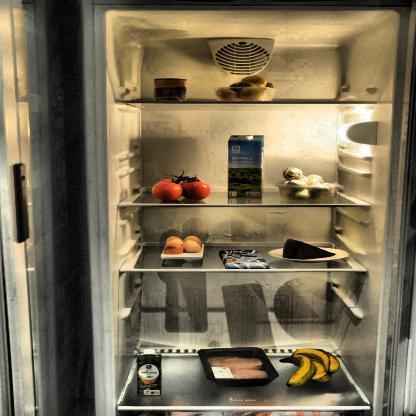banana: (278, 348, 342, 388)
cheese: (281, 237, 339, 260)
chicken: (206, 351, 270, 383)
chocolate: (219, 247, 271, 270)
corn: (154, 79, 188, 101)
eggs: (162, 232, 206, 259)
heavy_cream: (135, 348, 164, 396)
milk: (228, 136, 262, 202)
mushrooms: (278, 166, 339, 200)
potato: (207, 78, 280, 103)
tomato: (153, 174, 212, 204)
